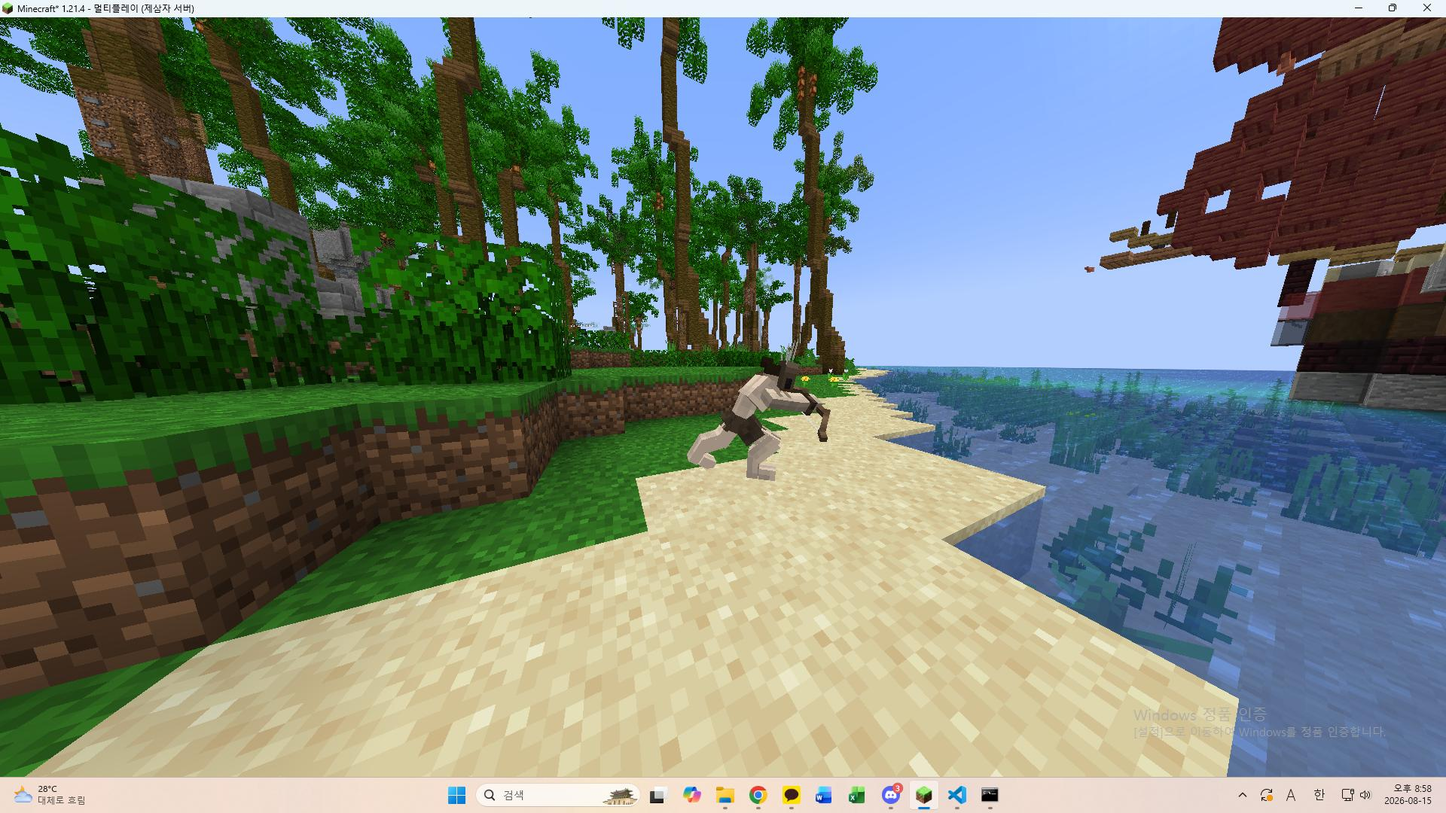bow_indian: (677, 330, 866, 508)
